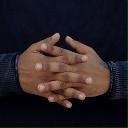hand: (18, 33, 93, 108), (35, 36, 111, 104)
